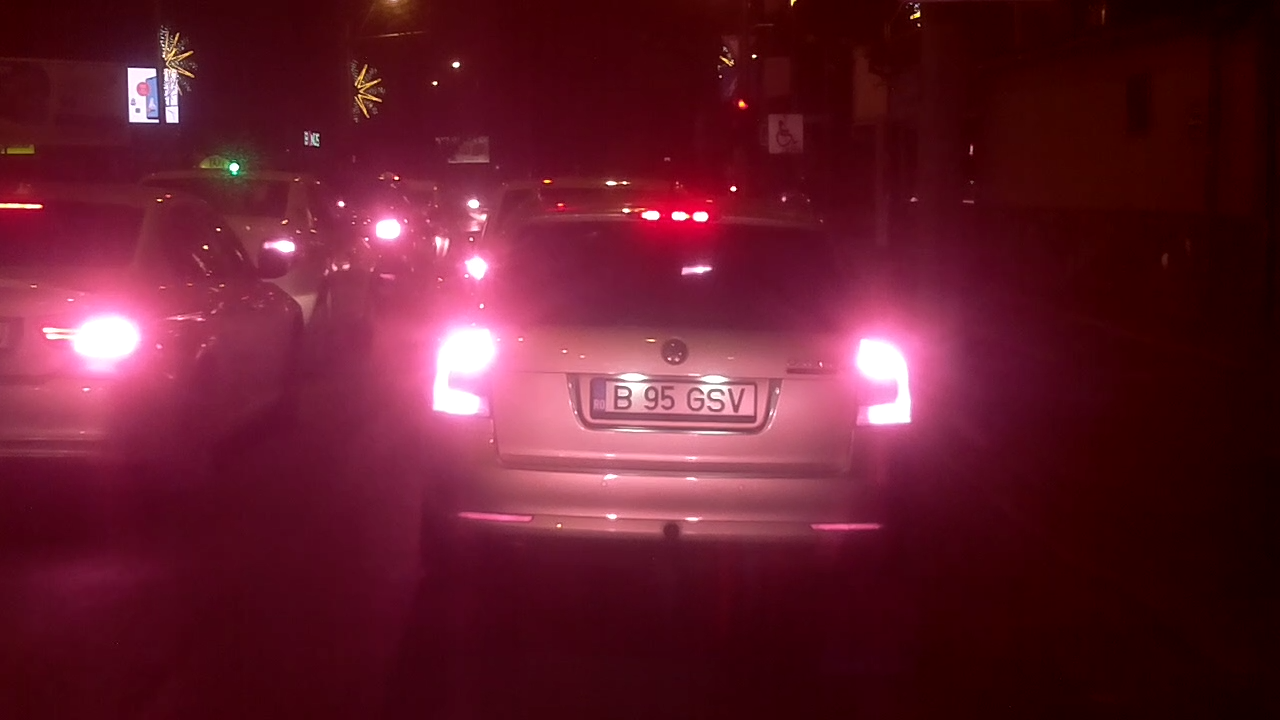license-plate: (587, 373, 761, 425)
